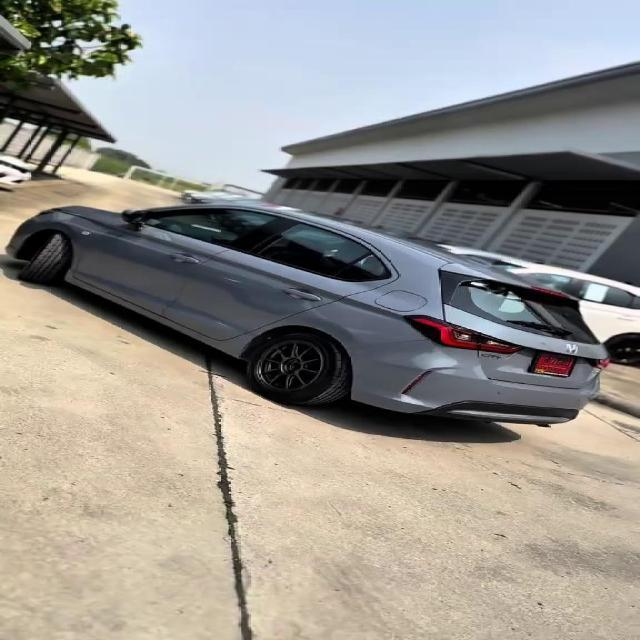Hatchback: (0, 198, 607, 428)
